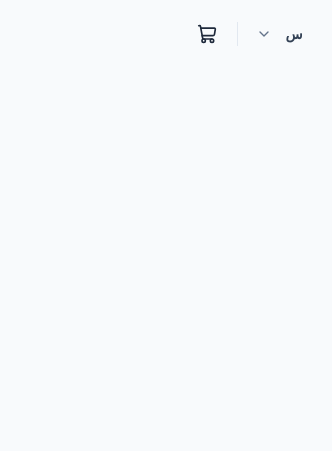
Scenario: the header account entry › names her in the menu, and links the account pages before a separated «خروج»
The width and height of the screenshot is (332, 451).
Click the button named "حساب کاربری: سارا احمدی" at (283, 34), box [246,12,320,56]
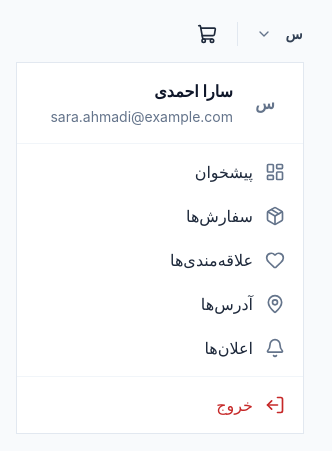
Expected: the text "سارا احمدی" is shown, [154,81,233,101]
Expected: the text "sara.ahmadi@example.com" is shown, [35,107,233,127]
